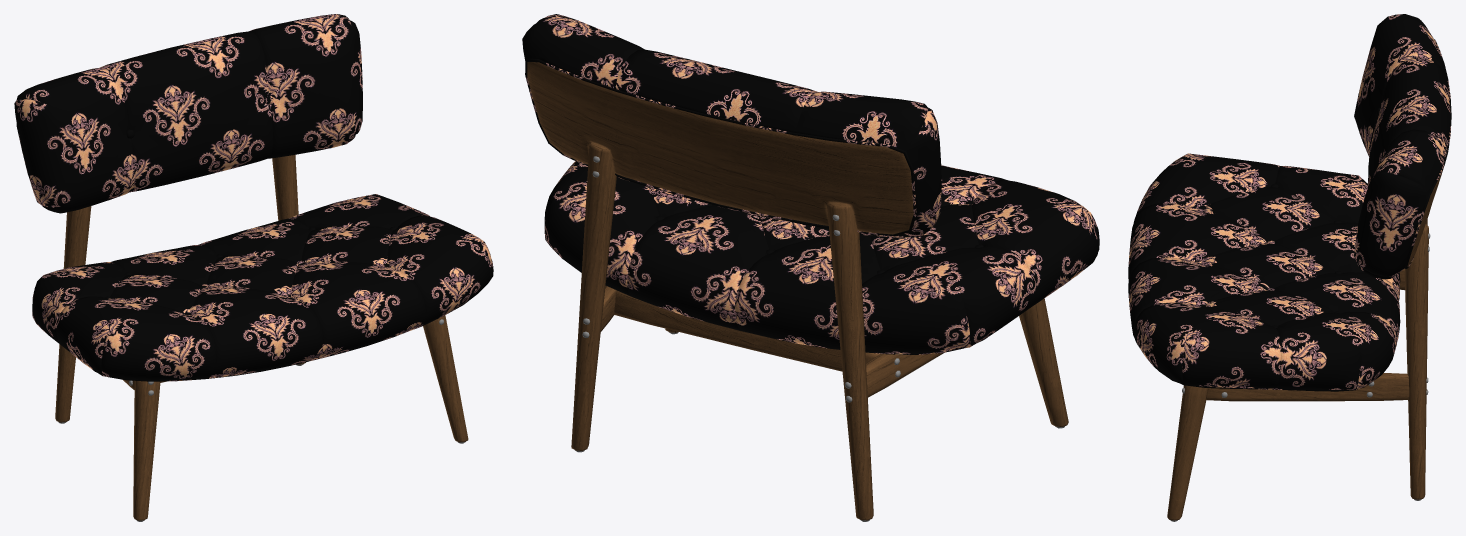
Rendered from ChairDamaskPurplegold.gltf.
3 views of the same model, side by side, from view 1: azimuth 30°, elevation 25°; view 2: azimuth 150°, elevation 25°; view 3: azimuth 270°, elevation 25° (orthographic). The views are drawn at different scales.
Visible parts, largest first — view 1: oval-tufted-chair_seat-fabric, oval-tufted-chair_back-fabric, oval-tufted-chair_legs-frame; view 2: oval-tufted-chair_seat-fabric, oval-tufted-chair_back-panel, oval-tufted-chair_legs-frame, oval-tufted-chair_back-fabric, oval-tufted-chair_back-welt; view 3: oval-tufted-chair_seat-fabric, oval-tufted-chair_back-fabric, oval-tufted-chair_legs-frame, oval-tufted-chair_back-welt, oval-tufted-chair_back-panel.
Boxes of the visible parts, x1=… form: oval-tufted-chair_seat-fabric: x1=32, y1=194, x2=493, y2=380; oval-tufted-chair_back-fabric: x1=14, y1=14, x2=362, y2=213; oval-tufted-chair_legs-frame: x1=55, y1=154, x2=468, y2=520; oval-tufted-chair_seat-fabric: x1=544, y1=161, x2=1099, y2=354; oval-tufted-chair_back-panel: x1=527, y1=62, x2=913, y2=234; oval-tufted-chair_legs-frame: x1=571, y1=142, x2=1068, y2=520; oval-tufted-chair_back-fabric: x1=522, y1=14, x2=941, y2=237; oval-tufted-chair_back-welt: x1=525, y1=58, x2=916, y2=236; oval-tufted-chair_seat-fabric: x1=1128, y1=153, x2=1400, y2=390; oval-tufted-chair_back-fabric: x1=1354, y1=14, x2=1450, y2=279; oval-tufted-chair_legs-frame: x1=1167, y1=219, x2=1428, y2=520; oval-tufted-chair_back-welt: x1=1404, y1=39, x2=1451, y2=268; oval-tufted-chair_back-panel: x1=1407, y1=169, x2=1443, y2=266.
Size of the model in its own units: 0.8286 by 0.6874 by 0.5718.
Materials: 4 (3 with a texture image).
